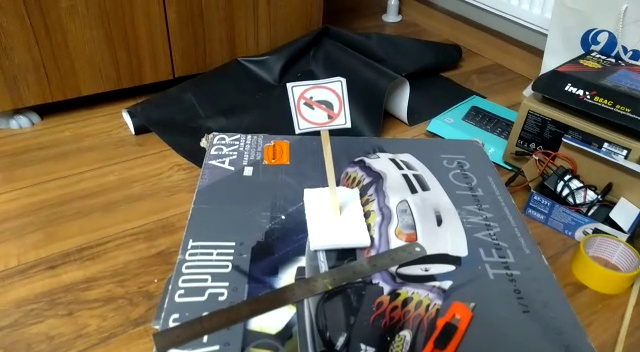sola_donulmez: (295, 79, 345, 132)
